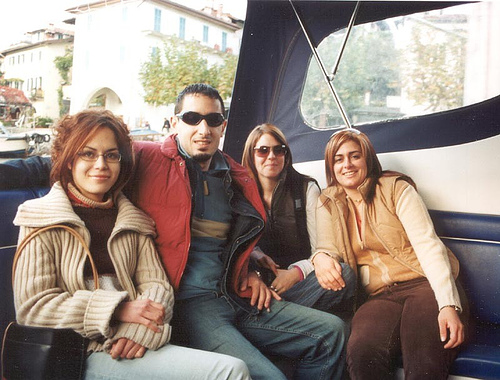without_mask: (63, 126, 123, 193), (172, 92, 225, 157), (328, 139, 369, 188), (250, 131, 289, 179)
